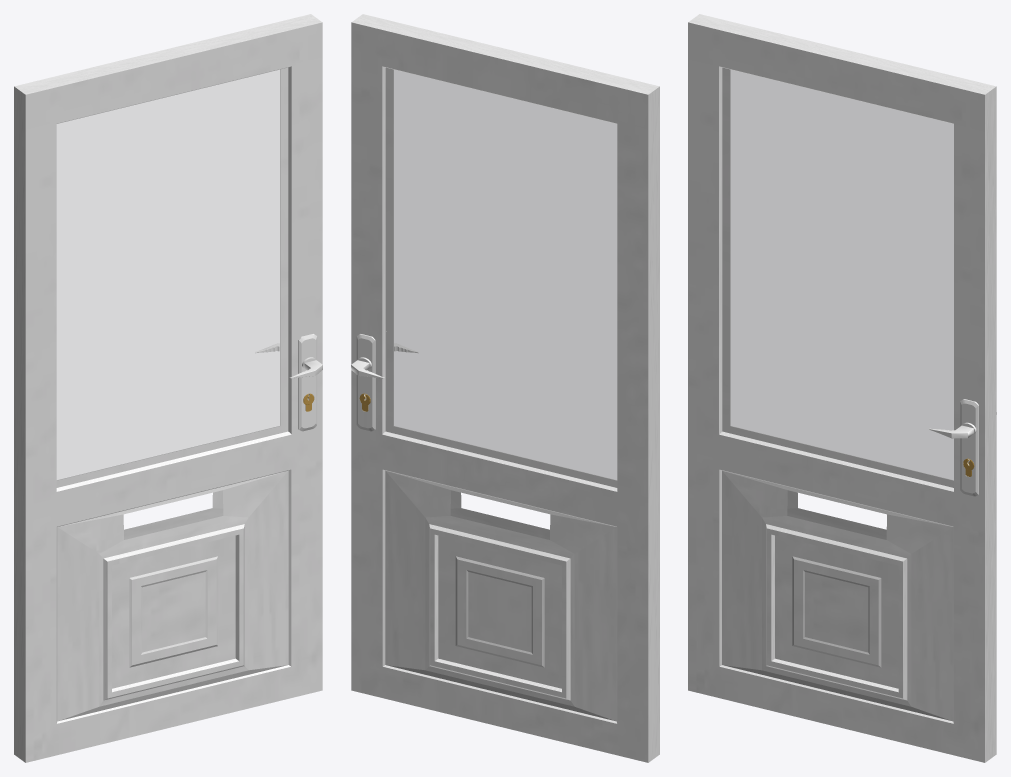
File: d_white_glass.glb
3 views of the same model, side by side, from view 1: azimuth 30°, elevation 25°; view 2: azimuth 150°, elevation 25°; view 3: azimuth 330°, elevation 25° (orthographic).
Parts seen in each view (by area): view 1: Object_2, Object_3, Object_5; view 2: Object_2, Object_3, Object_5; view 3: Object_2, Object_3, Object_5.
Boxes of the visible parts, x1,y1,x2,y2 form: Object_2: (14,14,322,762); Object_3: (56,68,287,487); Object_5: (255,330,322,431); Object_2: (351,14,659,762); Object_3: (386,68,617,487); Object_5: (351,330,418,431); Object_2: (688,14,996,762); Object_3: (722,68,953,487); Object_5: (929,399,996,496).
Bounding box in the file's own units: 1.02 × 2.2 × 0.2245.
4 materials, 1 textured.
